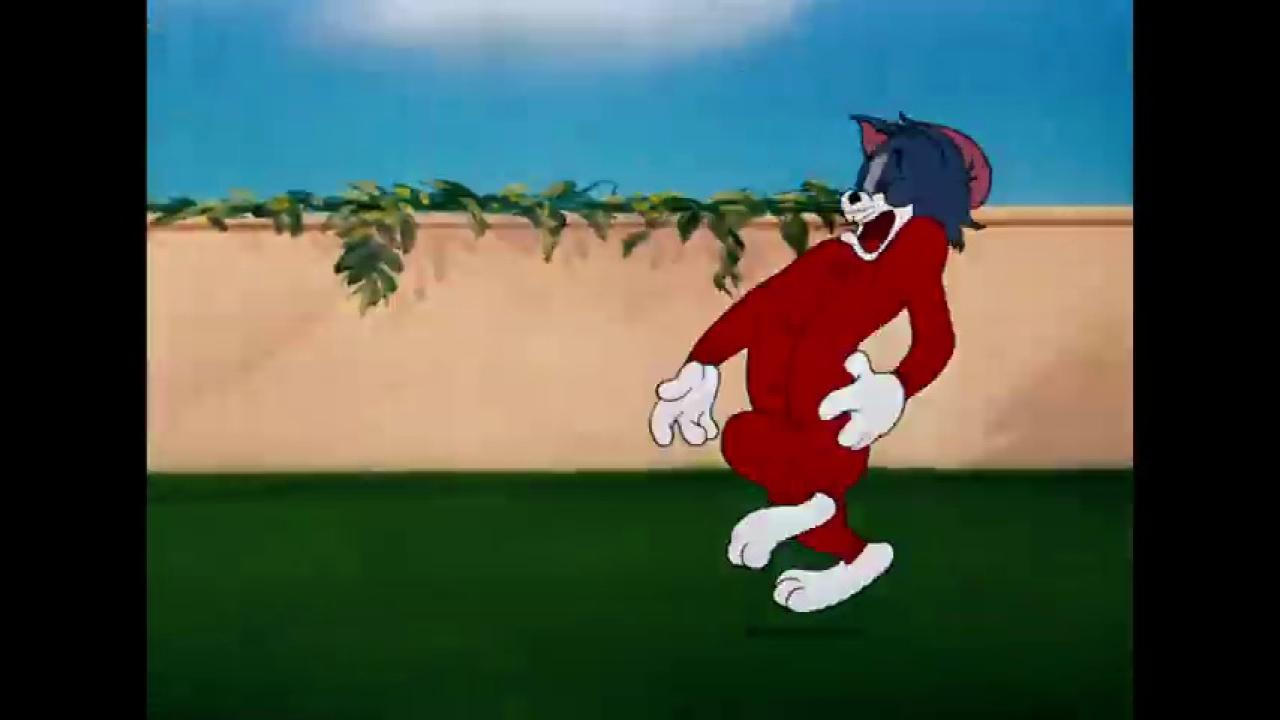Tom: (648, 112, 993, 619)
